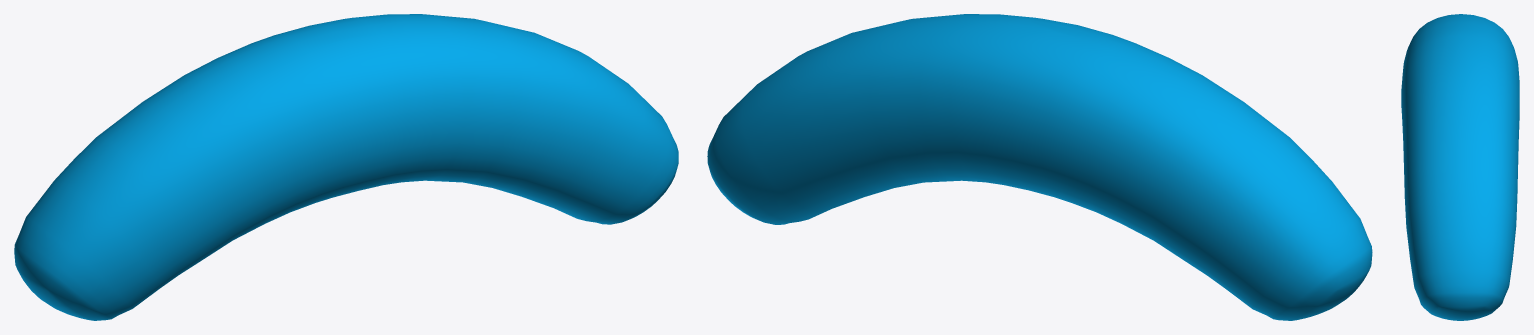
The picture shows the model from 3 angles, left to right: view 1: azimuth 30°, elevation 25°; view 2: azimuth 150°, elevation 25°; view 3: azimuth 270°, elevation 25°; orthographic projection. The views are drawn at different scales.
Visible parts, largest first — view 1: lv_1_1; view 2: lv_1_1; view 3: lv_1_1.
Boxes of the visible parts, x1,y1,x2,y2 form: lv_1_1: (14, 14, 678, 320); lv_1_1: (707, 14, 1372, 320); lv_1_1: (1401, 14, 1519, 320).
Bounding box in the file's own units: 57.71 × 21.38 × 12.99.
